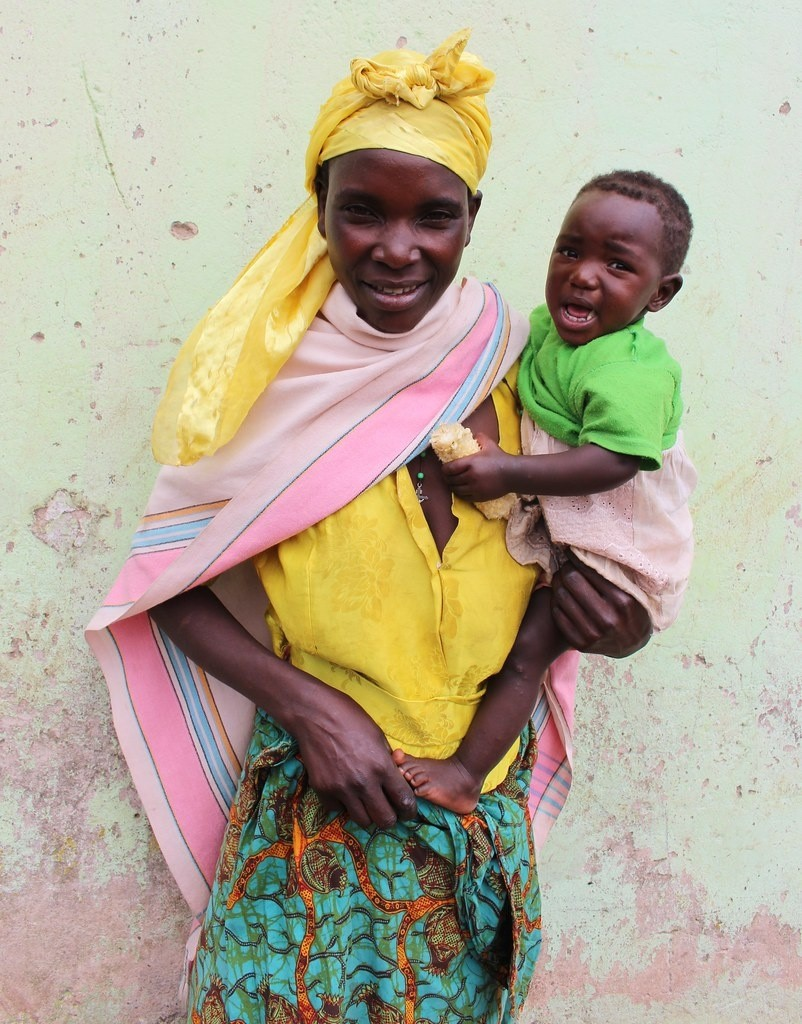face_no_mask: (312, 118, 481, 343), (543, 172, 693, 348)
